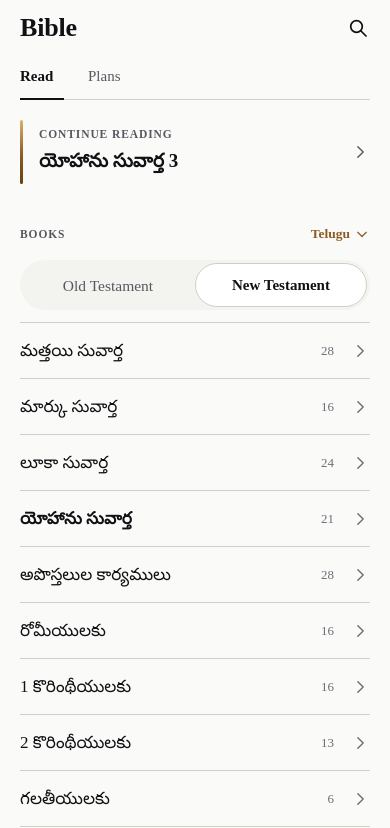
Test: the Read tab › where the member left off › lets the member choose the other testament, and keeps their choice
Check: the button with test id "book-john" is shown, box [20, 491, 370, 547]
What coordinates should you click on to do the following:
click the radio button with test id "bible-testament-OT"
I would click on:
 (108, 285)
Its box is [63, 276, 153, 294].
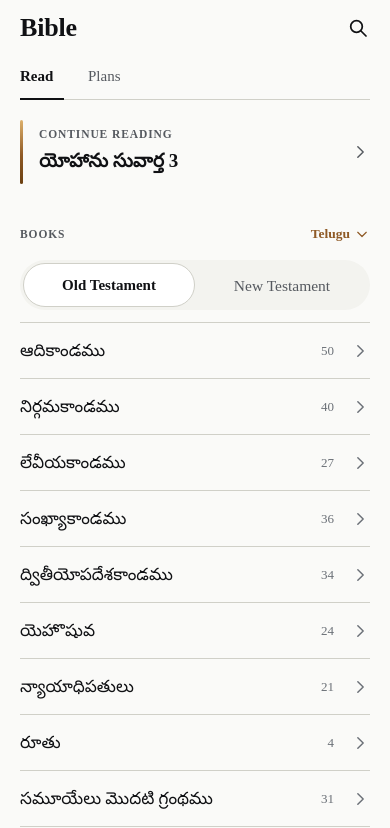
Check: the button with test id "book-genesis" is shown, box [20, 323, 370, 379]
Check: the button with test id "book-john" is gone
